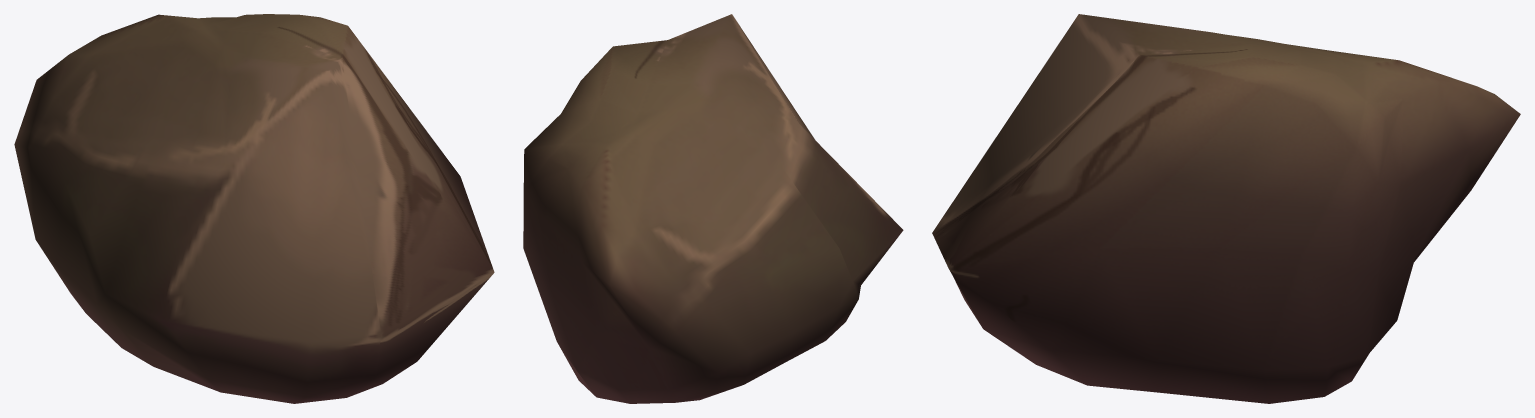
Rendered from Rock007.glb.
The picture shows the model from 3 angles, left to right: view 1: azimuth 30°, elevation 25°; view 2: azimuth 150°, elevation 25°; view 3: azimuth 270°, elevation 25°; orthographic projection. The views are drawn at different scales.
Parts seen in each view (by area): view 1: Cube.004; view 2: Cube.004; view 3: Cube.004.
Boxes of the visible parts, x1=… form: Cube.004: x1=14, y1=14, x2=494, y2=403; Cube.004: x1=523, y1=14, x2=903, y2=403; Cube.004: x1=932, y1=14, x2=1520, y2=403.
Size of the model in its own units: 0.4619 by 0.4683 by 0.6805.
1 material, 1 textured.
